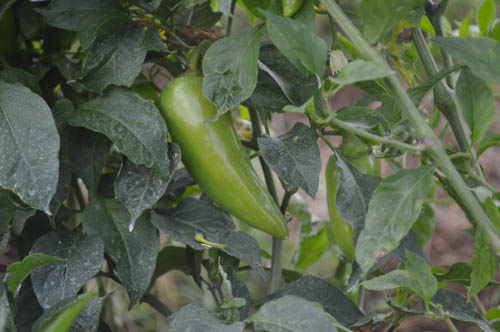ChiliPepper: (156, 72, 293, 246), (323, 146, 380, 268)
